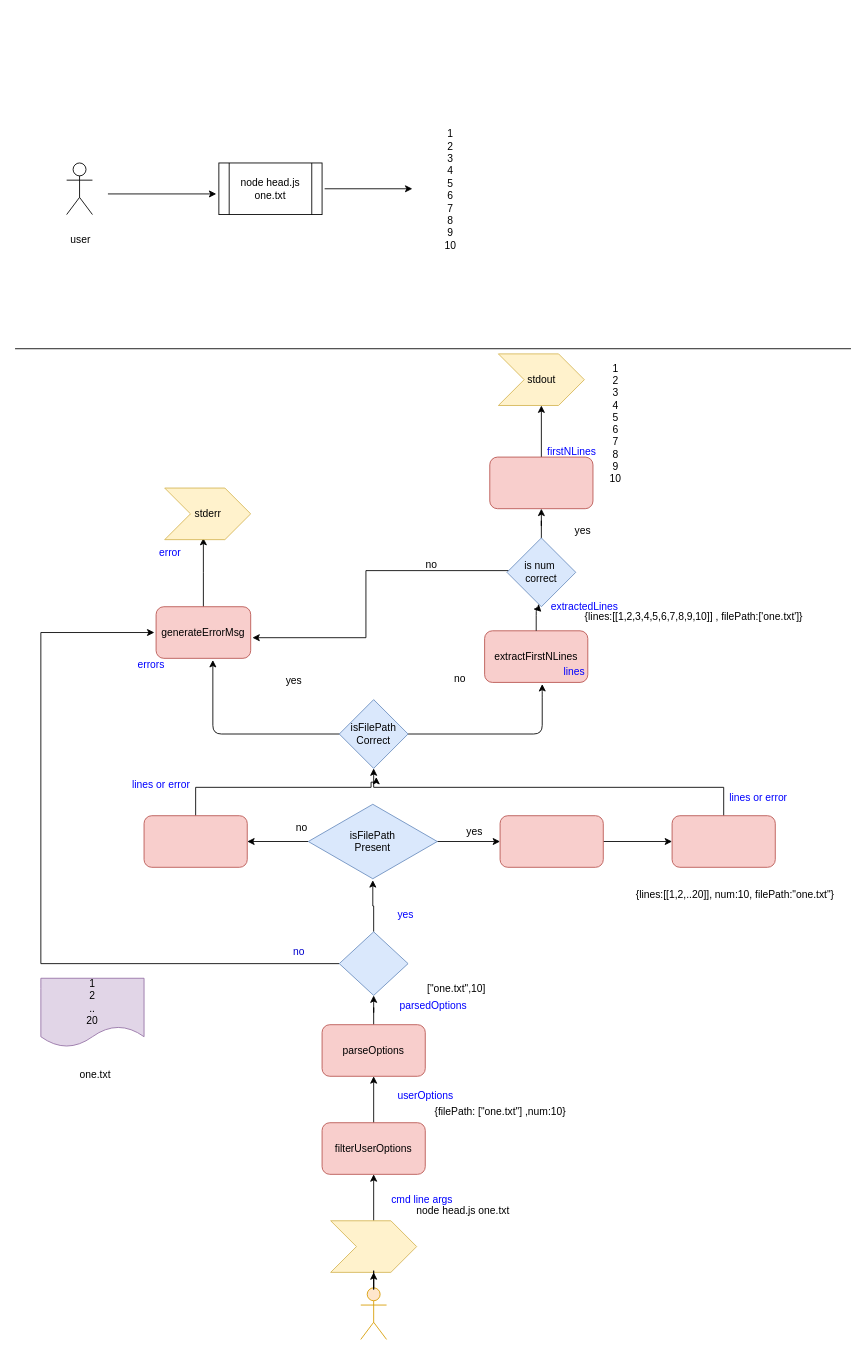
Image size: 867x1355. Some labels were removed from this diagram. Each missing label, with the centre of its shape:
fileHandler (check single or multiple file): pixel 551 841
is options correct: pixel 373 963
joinLines: pixel 541 482
loadLines: pixel 723 841
loadLinesFromStdIO: pixel 195 841
stdin: pixel 373 1246
